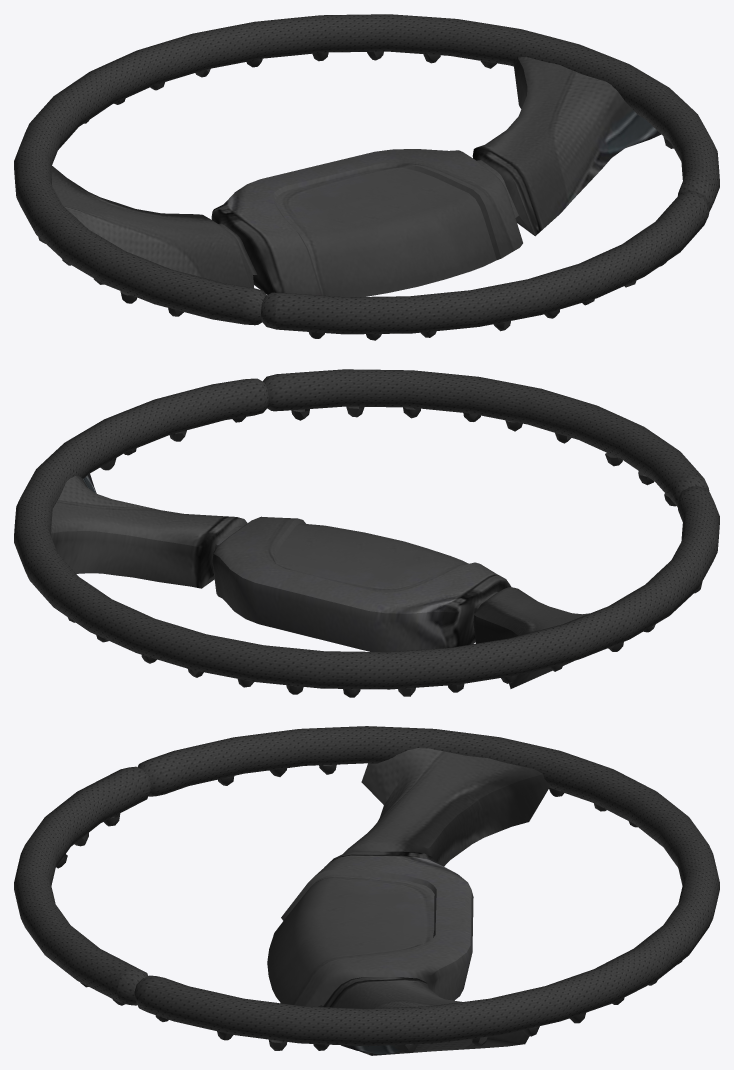
Rendered from Steering Wheel.fbx.
3 views of the same model, one above another, from view 1: azimuth 30°, elevation 25°; view 2: azimuth 150°, elevation 25°; view 3: azimuth 270°, elevation 25° (orthographic).
Parts seen in each view (by area): view 1: steering, Steering Rin, steering.001; view 2: Steering Rin, steering, steering.001; view 3: Steering Rin, steering, steering.001.
Part boxes in pixels (box(x1,y1,x2,y2)): steering: box(50, 57, 661, 297); Steering Rin: box(14, 14, 719, 334); steering.001: box(38, 51, 673, 340); Steering Rin: box(14, 369, 719, 689); steering: box(51, 473, 589, 688); steering.001: box(68, 406, 702, 697); Steering Rin: box(14, 726, 719, 1046); steering: box(267, 748, 549, 1055); steering.001: box(56, 764, 682, 1053).
Size of the model in its own units: 56.13 by 56.13 by 8.11.
1 material, 1 textured.
